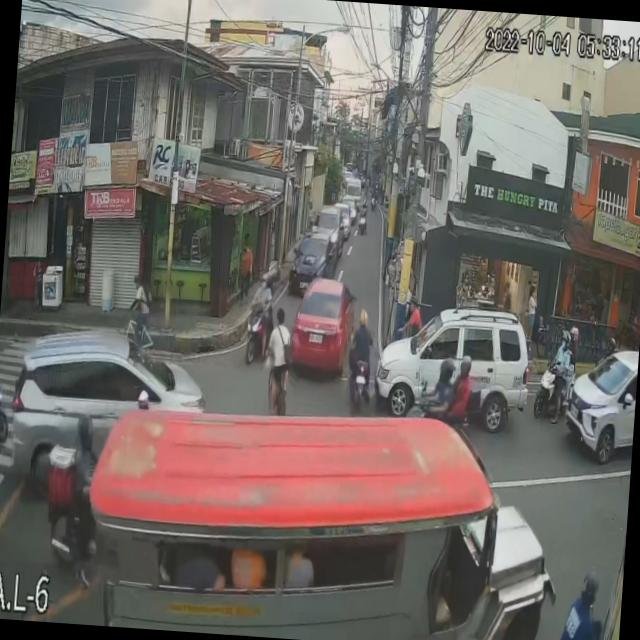full: (438, 356, 456, 386), (458, 354, 472, 378)
half: (358, 306, 372, 329), (558, 328, 572, 349)
